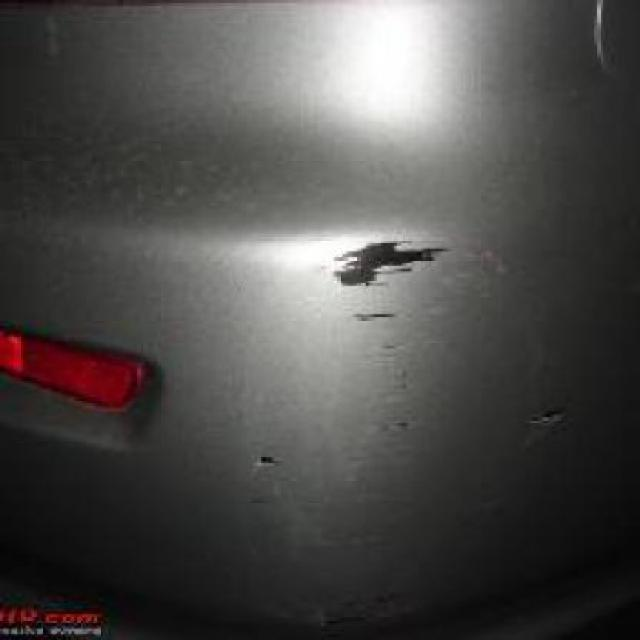dent-or-scratch: (319, 220, 487, 406)
